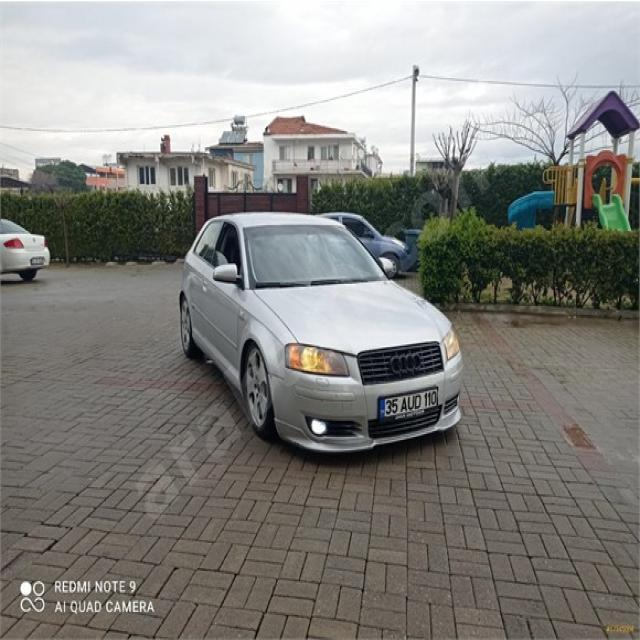plate: (378, 386, 440, 423)
